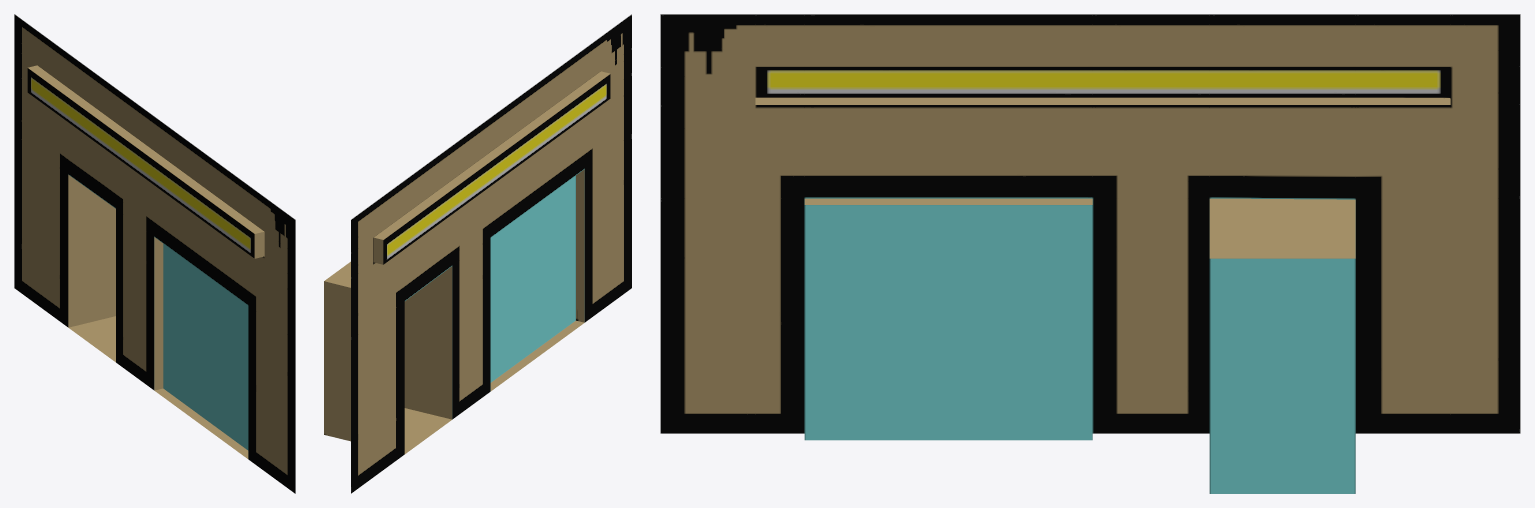
The model's file is houses_test_1024.glb.
The picture shows the model from 3 angles, left to right: view 1: azimuth 30°, elevation 25°; view 2: azimuth 150°, elevation 25°; view 3: azimuth 270°, elevation 25°; orthographic projection. The views are drawn at different scales.
Parts seen in each view (by area): view 1: facade-ext-col; view 2: facade-ext-col; view 3: facade-ext-col.
Part boxes in pixels (x1,y1,x2,y2): facade-ext-col: (14, 14, 295, 493); facade-ext-col: (324, 14, 631, 493); facade-ext-col: (660, 14, 1520, 493).
Size of the model in its own units: 1.21 by 3.5 by 6.5.
1 material, 1 textured.
